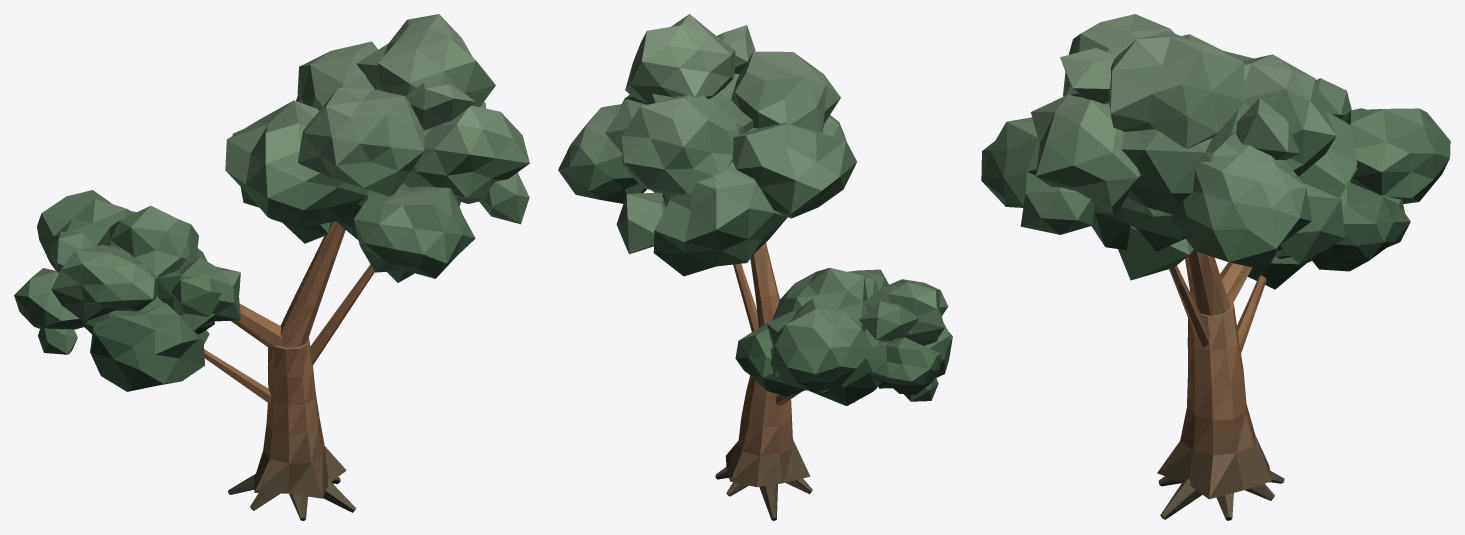
The model's file is broadleaf-round-forked.glb.
3 views of the same model, side by side, from view 1: azimuth 30°, elevation 25°; view 2: azimuth 150°, elevation 25°; view 3: azimuth 270°, elevation 25° (orthographic). The views are drawn at different scales.
Visible parts, largest first — view 1: canopy, trunk; view 2: canopy, trunk; view 3: canopy, trunk.
Boxes of the visible parts, x1,y1,x2,y2 form: canopy: (14,14,529,391); trunk: (204,221,374,520); canopy: (558,14,952,406); trunk: (715,243,812,520); canopy: (981,14,1450,289); trunk: (1157,249,1284,520).
Bounding box in the file's own units: 7.35 × 7.55 × 6.06.
